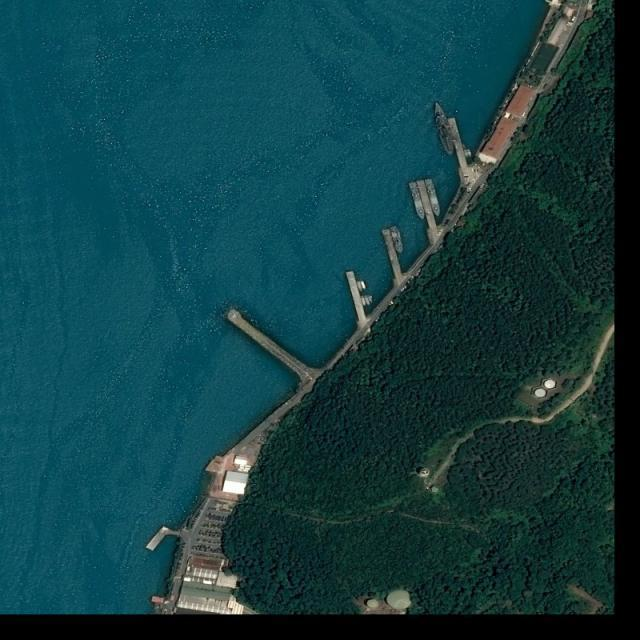ship: (430, 100, 458, 158), (409, 181, 427, 222), (424, 178, 442, 218), (388, 226, 406, 256), (355, 280, 364, 294), (364, 294, 372, 307), (359, 295, 367, 308), (360, 280, 368, 292), (466, 148, 473, 158), (463, 149, 469, 159), (369, 294, 374, 305), (370, 295, 374, 300)
